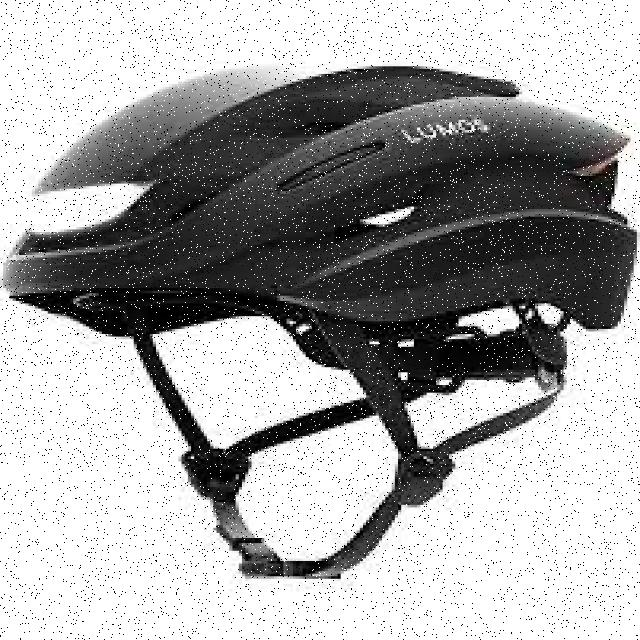Helmet: (5, 66, 634, 327)
